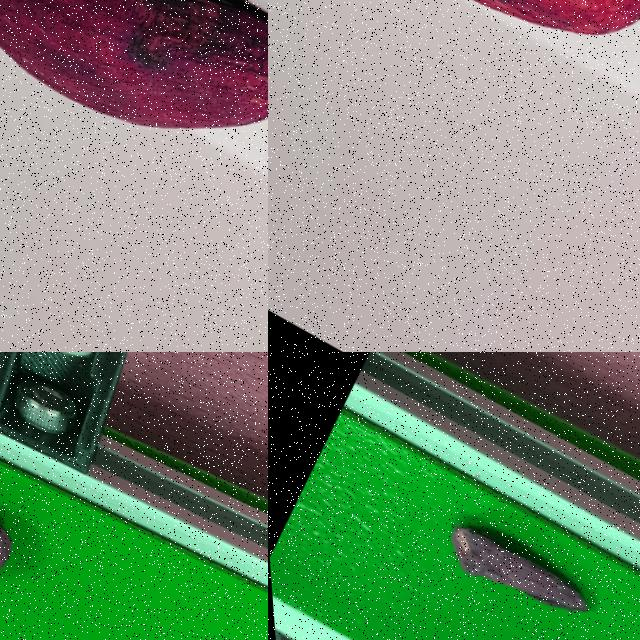Fine_cocoabeans: (0, 0, 267, 247), (268, 0, 639, 134), (0, 395, 105, 639)
Flat_cocoabeans: (383, 459, 639, 639)
